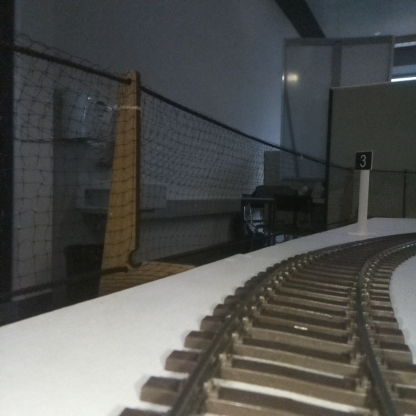black-info-3: (355, 151, 372, 234)
